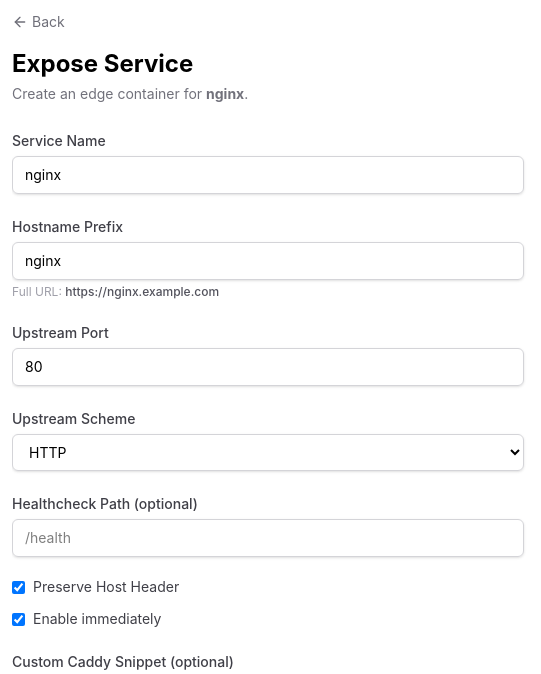
ExposeService page - validation › blocks invalid hostname prefixes before creating the service
Replace the text in the field labelled "Hostname Prefix Full URL: https://nginx.example.com" with "-bad" at (268, 261), box [12,242,524,280]
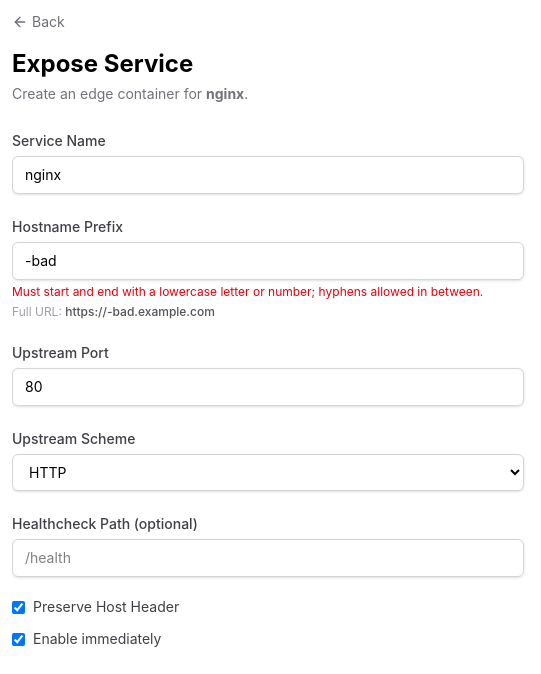
Expected: the text "Must start and end with a lowercase letter or number" is shown, [12,284,483,299]
